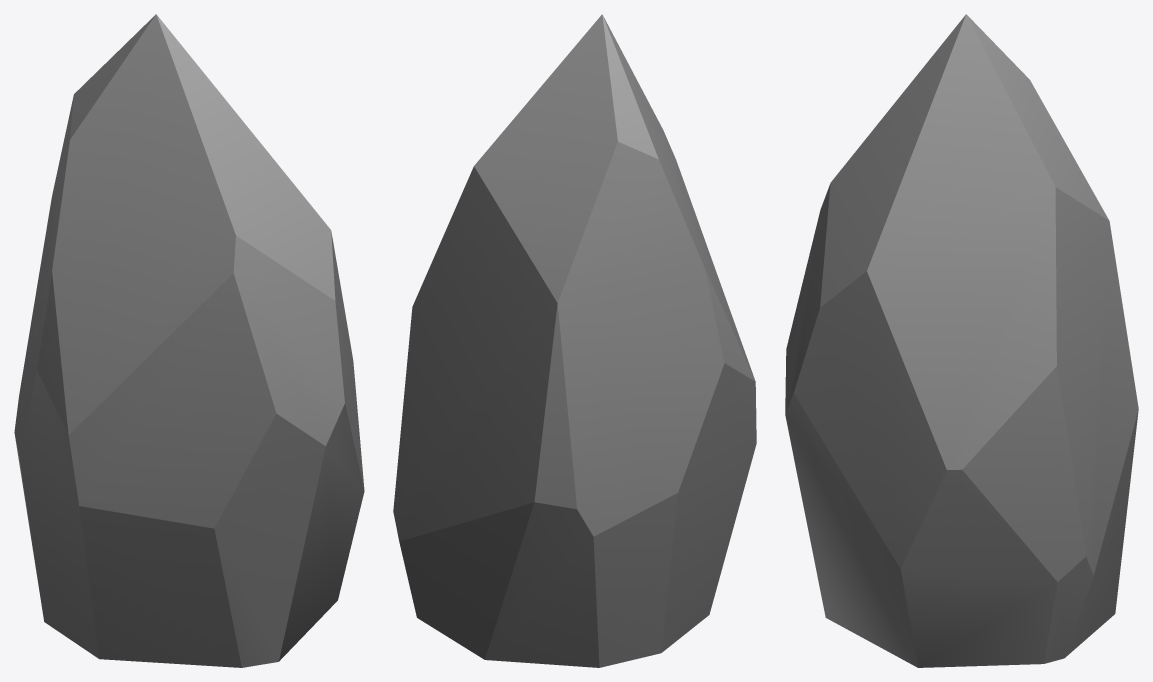
The model's file is stone medium.fbx.
3 views of the same model, side by side, from view 1: azimuth 30°, elevation 25°; view 2: azimuth 150°, elevation 25°; view 3: azimuth 270°, elevation 25° (orthographic). The views are drawn at different scales.
Parts seen in each view (by area): view 1: stone medium; view 2: stone medium; view 3: stone medium.
Part boxes in pixels (x1,y1,x2,y2): stone medium: (14, 14, 364, 667); stone medium: (393, 14, 756, 667); stone medium: (785, 14, 1138, 667).
Size of the model in its own units: 158 by 297 by 164.
